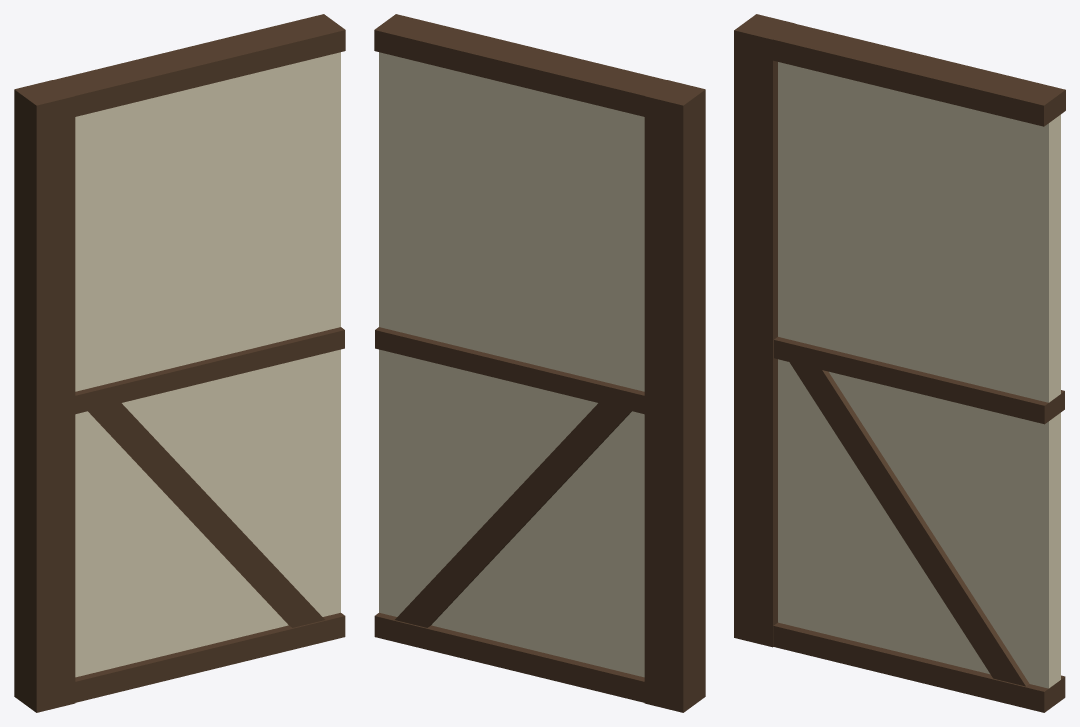
File: falling_brace.glb
3 renders of one model, left to right at view 1: azimuth 30°, elevation 25°; view 2: azimuth 150°, elevation 25°; view 3: azimuth 330°, elevation 25°, orthographic.
Parts seen in each view (by area): view 1: Falling brace; view 2: Falling brace; view 3: Falling brace.
Part boxes in pixels (left/top/right/bottom): Falling brace: left=14, top=14, right=345, bottom=712; Falling brace: left=374, top=14, right=705, bottom=712; Falling brace: left=734, top=14, right=1065, bottom=712.
Bounding box in the file's own units: 1 × 1.88 × 0.125.
